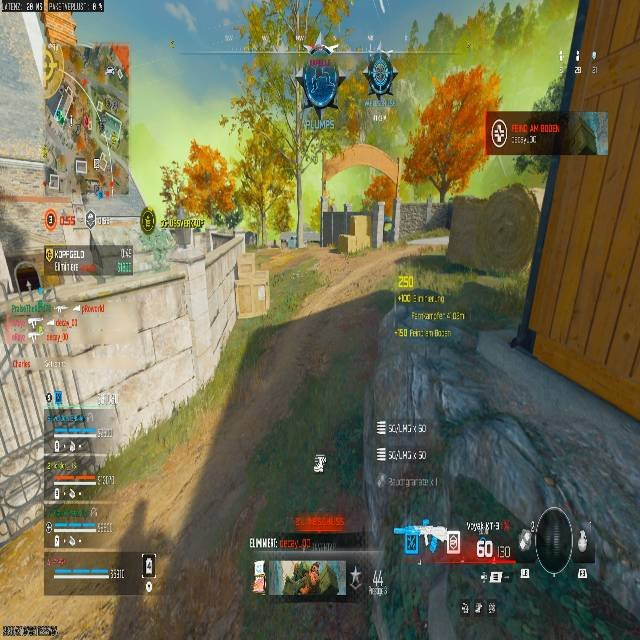player: (362, 55, 397, 101)
